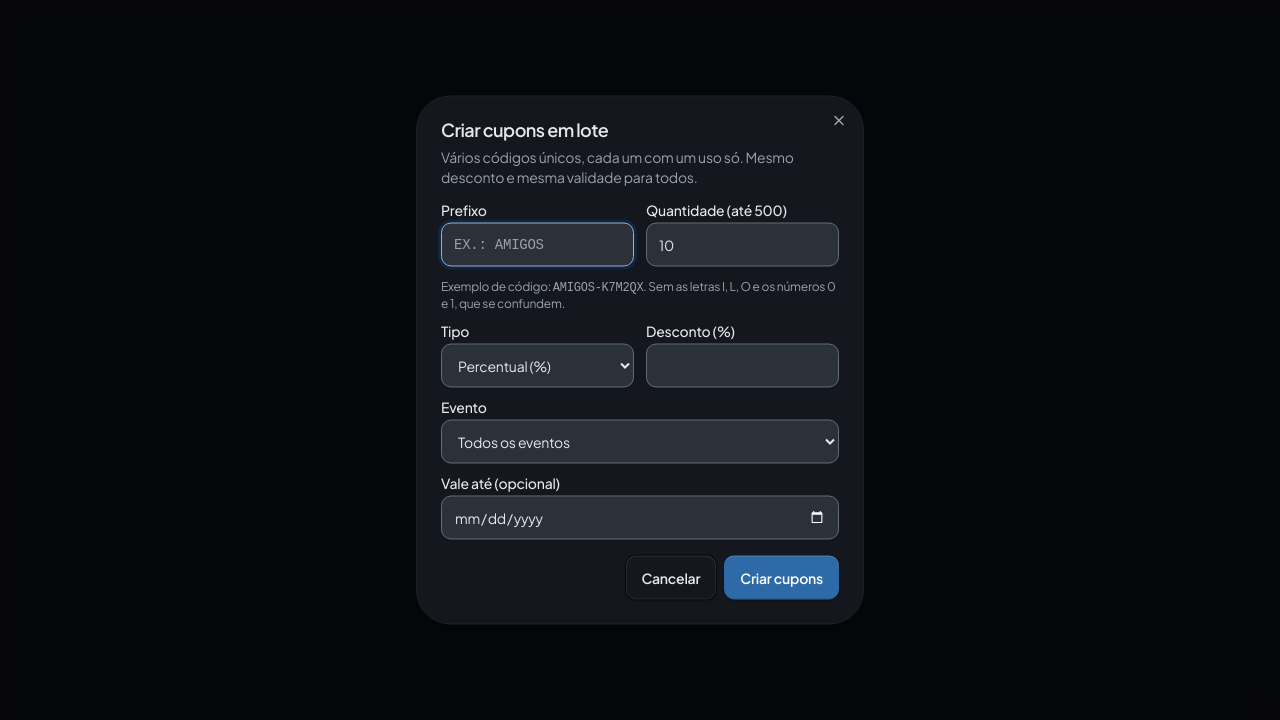
it: cupons em lote e CSV (tela) › colisão no banco: mensagem genérica, sem listar os códigos nem dizer que existem
Type "ZZ" into the field labelled "Prefixo" at (538, 244), box left=441, top=222, right=634, bottom=266
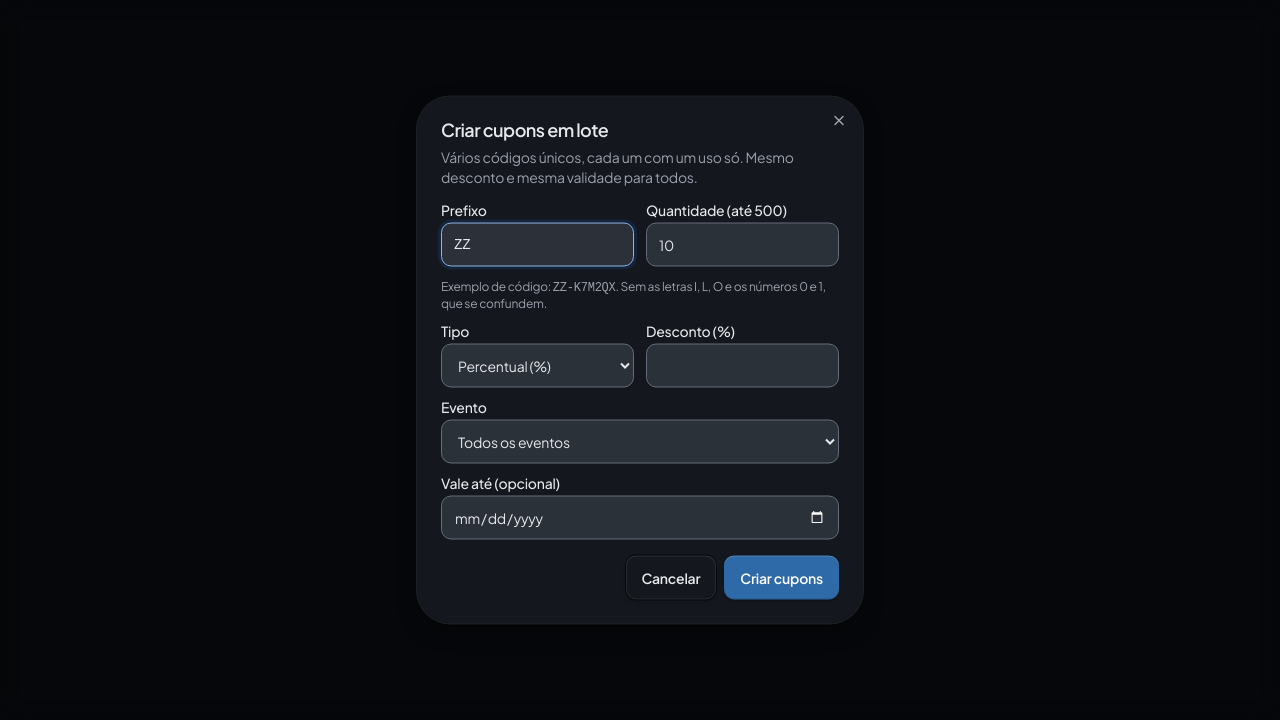
Type "5" into the field labelled "Desconto (%)" at (742, 366), box left=646, top=344, right=839, bottom=388
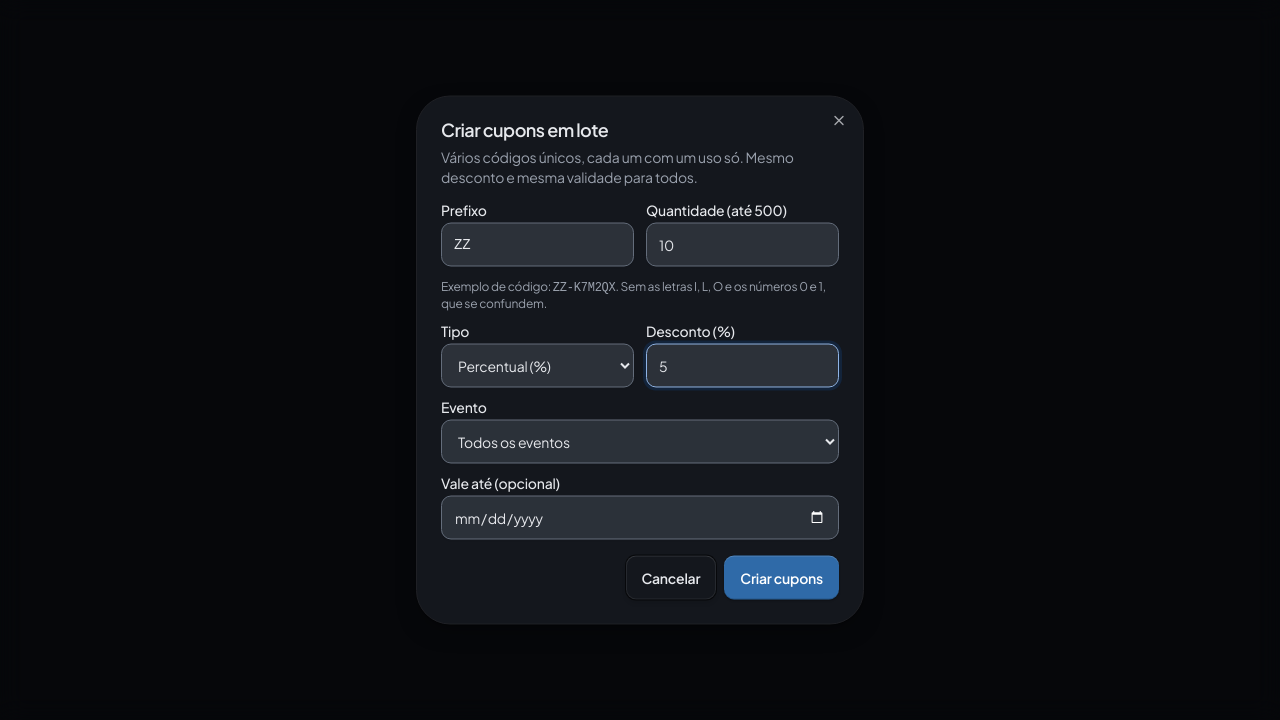
Replace the text in the field labelled "Quantidade (até 500)" with "3" at (742, 244), box left=646, top=222, right=839, bottom=266
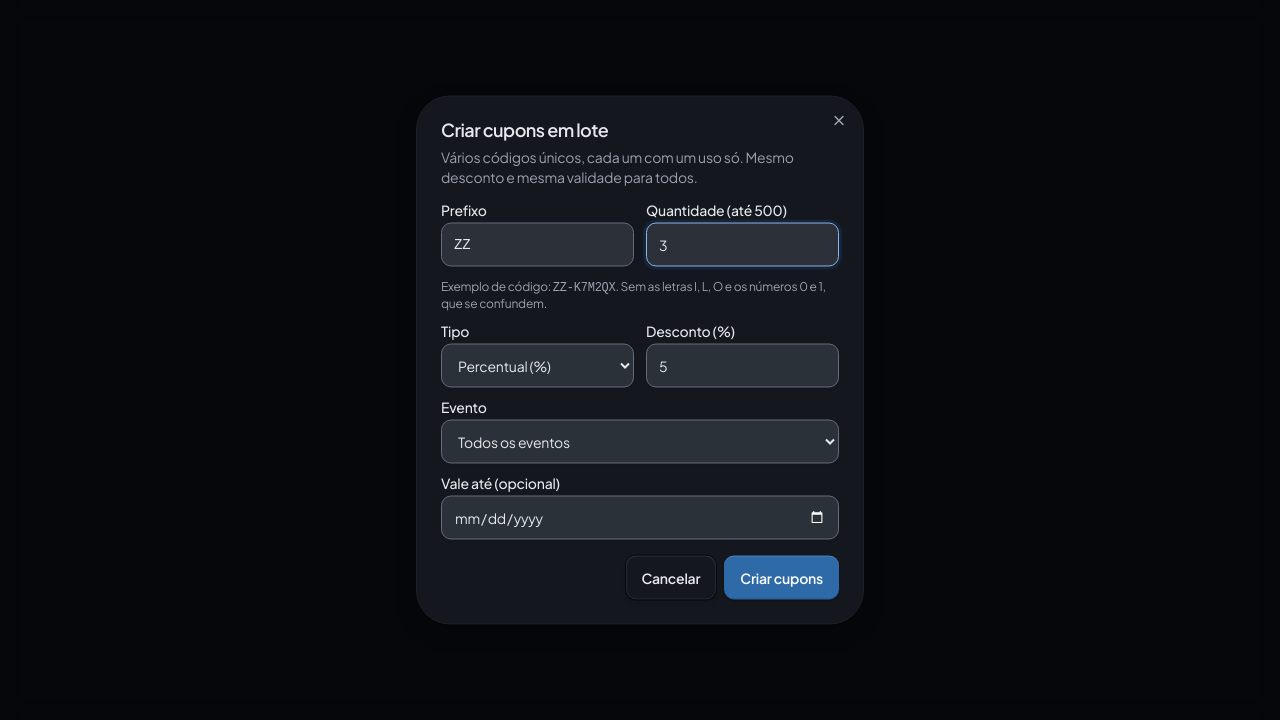
Click the button "Criar cupons" at (782, 578), box left=724, top=556, right=839, bottom=600
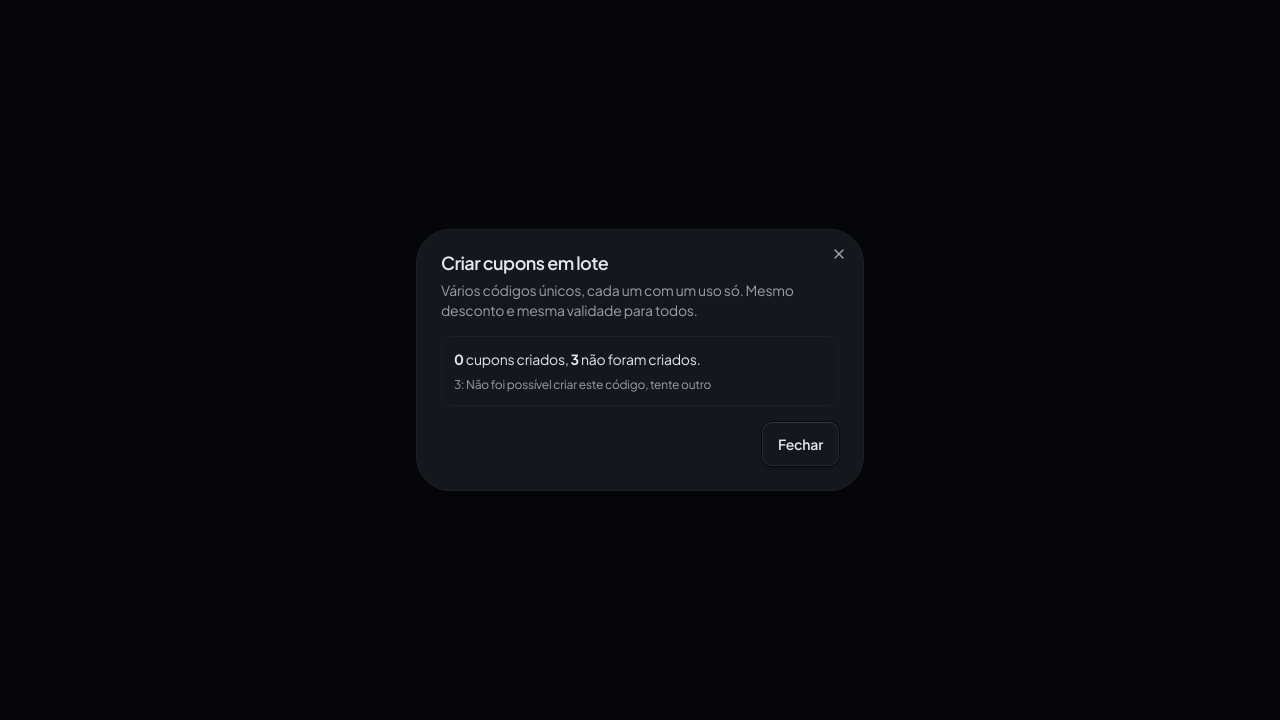
Expected: the message shows "3: Não foi possível criar este código, tente outro", left=441, top=336, right=839, bottom=406
